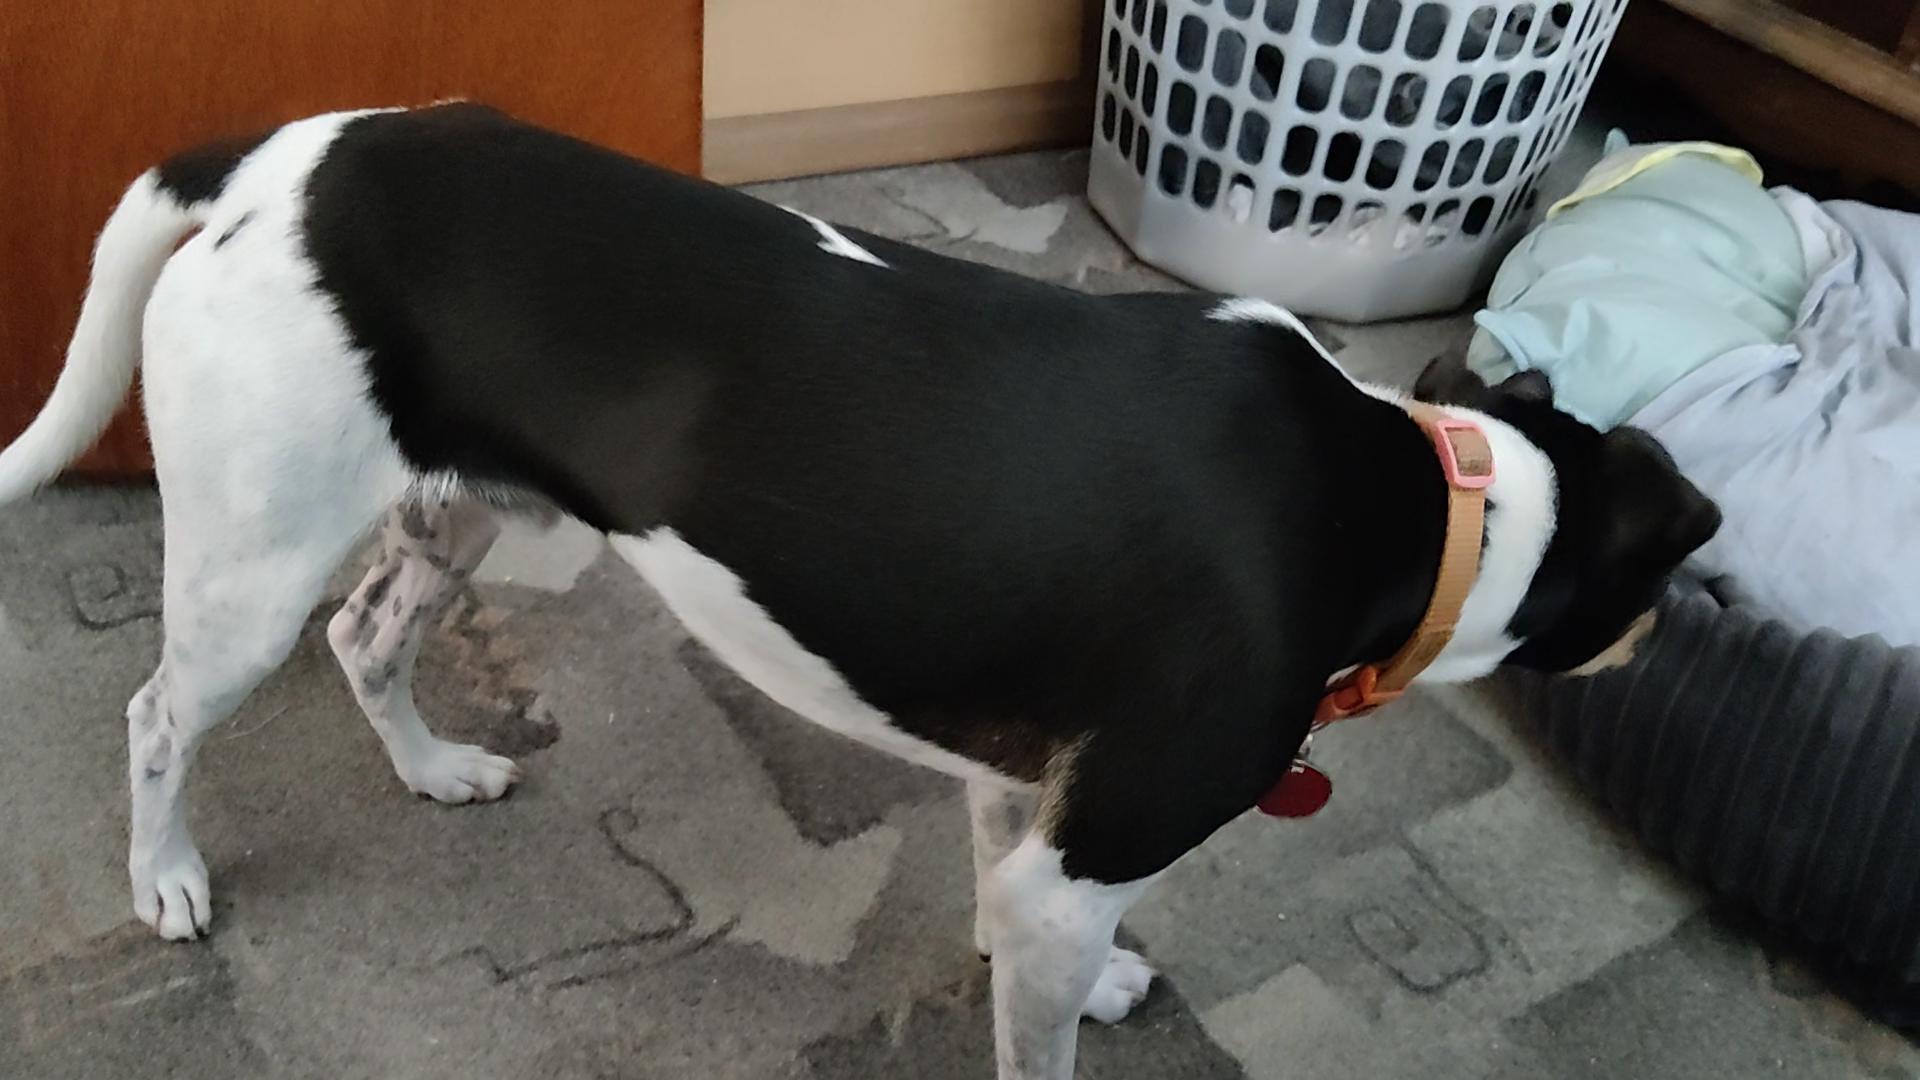Dog: (0, 96, 1725, 1079)
